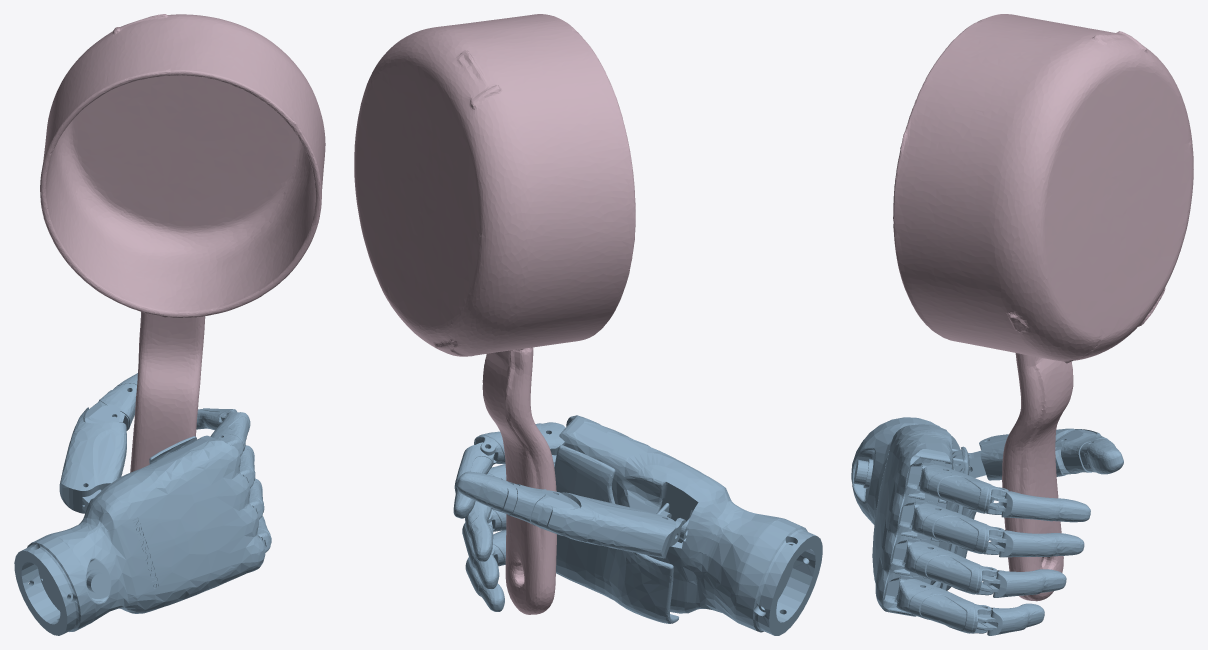
3 views of the same model, side by side, from view 1: azimuth 30°, elevation 25°; view 2: azimuth 150°, elevation 25°; view 3: azimuth 270°, elevation 25° (orthographic). The views are drawn at different scales.
Visible parts, largest first — view 1: obj_mesh_grasp_20.obj, world; view 2: obj_mesh_grasp_20.obj, world; view 3: obj_mesh_grasp_20.obj, world.
Part boxes in pixels (x1,y1,x2,y2): obj_mesh_grasp_20.obj: (40, 14, 325, 472); world: (14, 373, 271, 635); obj_mesh_grasp_20.obj: (354, 14, 635, 614); world: (453, 415, 822, 635); obj_mesh_grasp_20.obj: (893, 14, 1193, 601); world: (851, 417, 1123, 635).
Size of the model in its own units: 0.2152 by 0.3162 by 0.1625.
